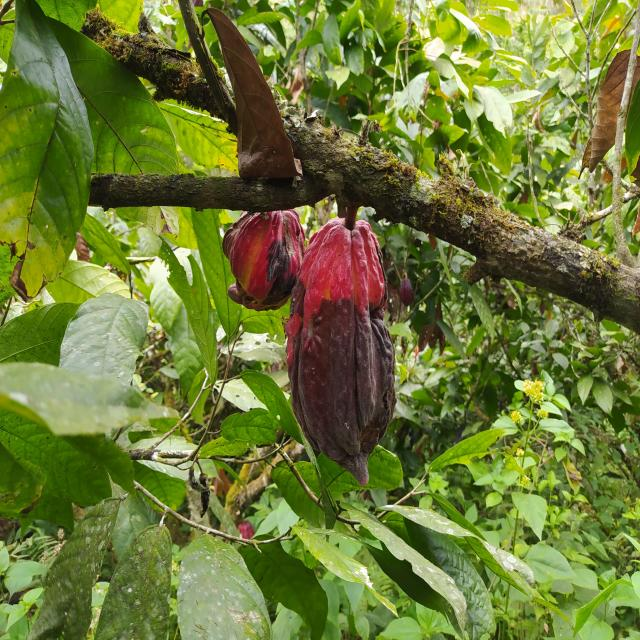Fitoftora: (286, 221, 394, 479), (224, 205, 306, 308)
